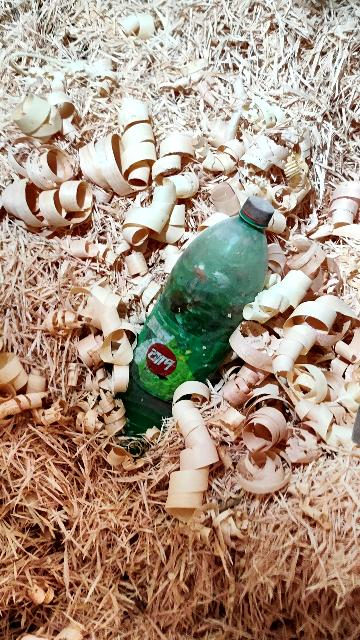bottle: (83, 181, 311, 458)
